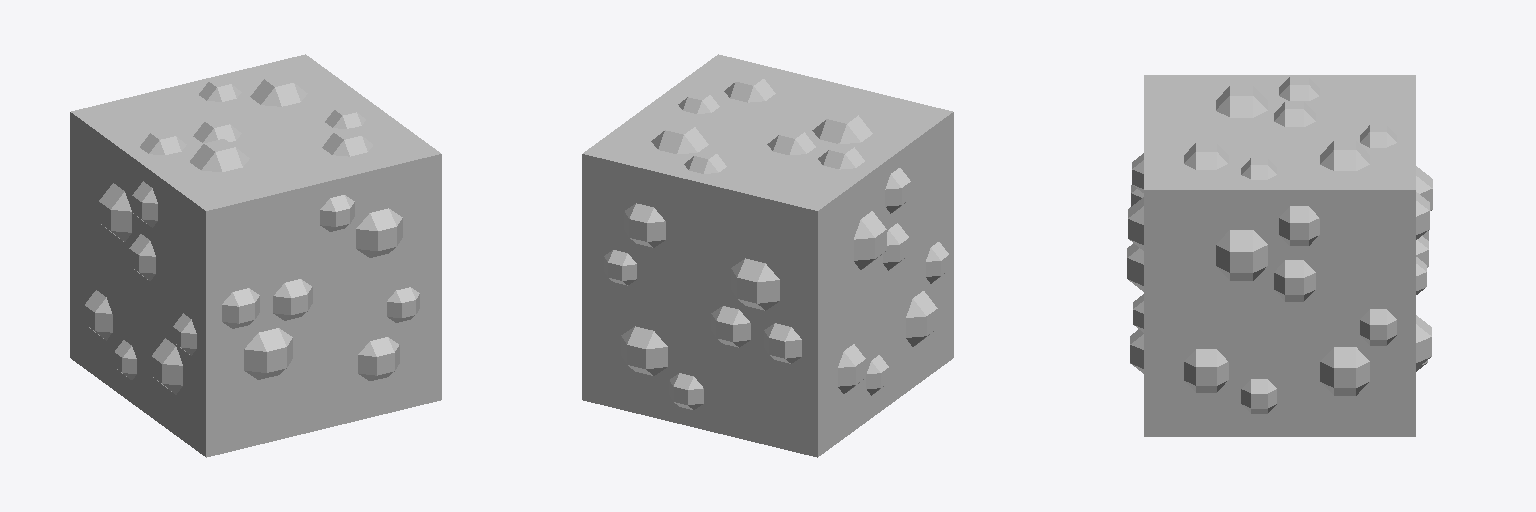
Rendered from Block_Coal.obj.
3 views of the same model, side by side, from view 1: azimuth 30°, elevation 25°; view 2: azimuth 150°, elevation 25°; view 3: azimuth 270°, elevation 25° (orthographic).
Visible parts, largest first — view 1: Block_Coal_Cube.424; view 2: Block_Coal_Cube.424; view 3: Block_Coal_Cube.424.
Boxes of the visible parts, box(x1,y1,x2,y2) form: Block_Coal_Cube.424: box(70, 54, 441, 457); Block_Coal_Cube.424: box(582, 54, 953, 457); Block_Coal_Cube.424: box(1127, 75, 1432, 436).
Size of the model in its own units: 2.24 by 2.24 by 2.24.